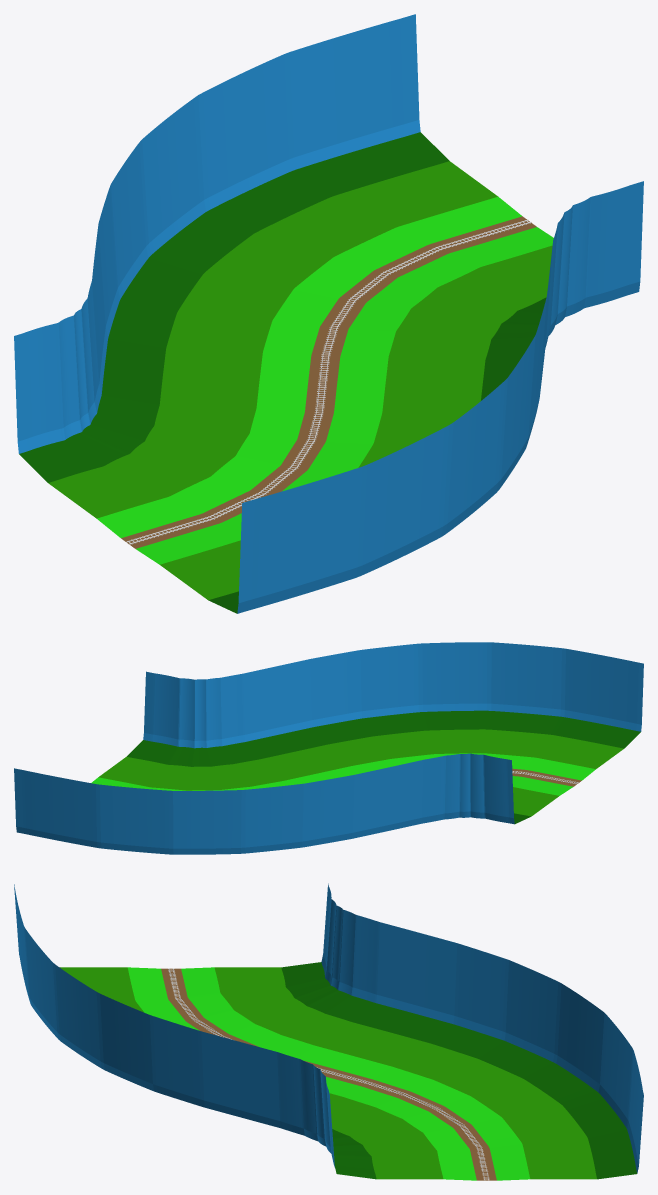
Rendered from A_Slalom_Left.fbx.
3 renders of one model, top to bottom at view 1: azimuth 30°, elevation 25°; view 2: azimuth 150°, elevation 25°; view 3: azimuth 270°, elevation 25°, orthographic. The views are drawn at different scales.
Visible parts, largest first — view 1: ZZI; view 2: ZZI; view 3: ZZI.
Boxes of the visible parts, x1,y1,x2,y2 form: ZZI: [14, 14, 643, 613]; ZZI: [14, 642, 643, 854]; ZZI: [14, 883, 643, 1180].
Size of the model in its own units: 15972 by 3000 by 20056.
